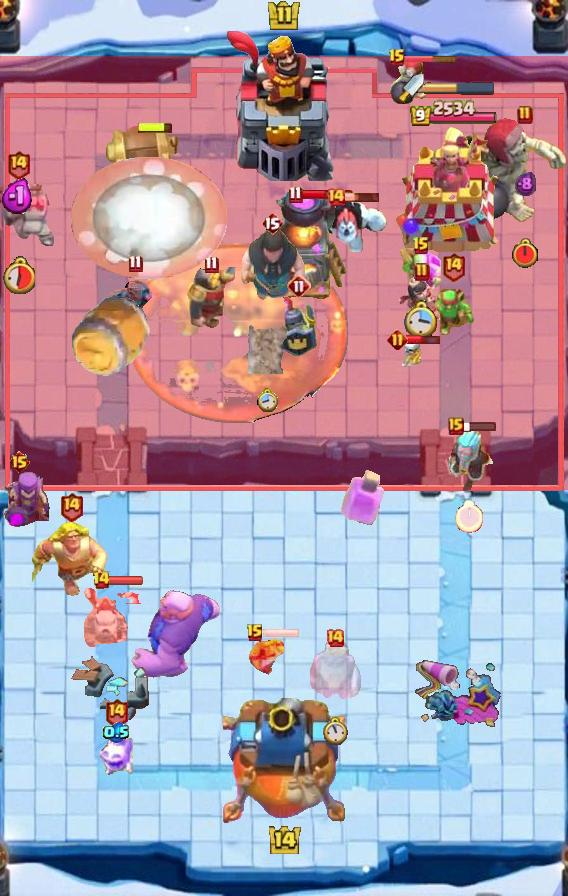balloon: (129, 588, 223, 680)
bar: (394, 126, 512, 256)
battle-ram: (107, 274, 163, 330)
dirt: (69, 292, 155, 380)
electro-giant: (446, 118, 568, 230)
electro-spirit: (1, 177, 35, 215), (102, 721, 129, 742), (515, 171, 536, 197)
elixir: (1, 256, 35, 294), (404, 300, 438, 338), (455, 500, 483, 532), (511, 238, 539, 269), (323, 717, 348, 746), (256, 388, 278, 413)
emote: (302, 188, 355, 200), (404, 53, 458, 63), (138, 121, 174, 134), (406, 333, 442, 346), (343, 191, 381, 203), (264, 627, 301, 639), (461, 420, 497, 432), (108, 574, 144, 585)
firecracker: (187, 267, 236, 328)
fisherman: (247, 324, 287, 374)
giant-snowball: (397, 245, 445, 295), (432, 287, 474, 337)
goblin-hut: (32, 519, 110, 597)
heal-spirit: (397, 339, 425, 369)
hunter: (260, 192, 348, 302)
ice-golem: (389, 56, 429, 104)
king-tower: (223, 31, 345, 181), (223, 698, 345, 826)
king-tower-bar: (424, 81, 496, 95)
knight-evolution: (340, 470, 384, 527)
mini-pekka: (81, 580, 141, 650)
mirror: (96, 726, 136, 778)
mortar: (439, 423, 499, 495)
mortar-evolution: (307, 638, 363, 704)
phoenix-egg: (128, 244, 348, 425)
princess: (277, 294, 321, 358)
rage: (308, 198, 388, 252)
rascal-girl: (0, 469, 54, 533)
royal-hog: (237, 224, 307, 316)
selected: (410, 100, 499, 128)
skeleton-dragon: (397, 273, 447, 327)
text: (5, 149, 30, 180), (60, 490, 85, 521), (103, 697, 128, 728), (442, 251, 467, 281), (287, 274, 311, 298), (8, 450, 31, 474), (261, 211, 283, 235), (387, 329, 408, 350), (326, 187, 346, 207), (325, 628, 345, 648), (92, 570, 111, 590), (388, 48, 406, 68), (412, 236, 430, 256), (246, 623, 264, 643), (517, 105, 533, 125), (414, 262, 430, 282), (448, 417, 464, 435), (289, 185, 304, 203), (129, 255, 144, 273), (204, 255, 219, 273)
the-log: (102, 123, 182, 177)
valkyrie-evolution: (0, 184, 58, 248)
wall-breaker: (72, 157, 229, 279)
zap: (248, 637, 284, 677)
